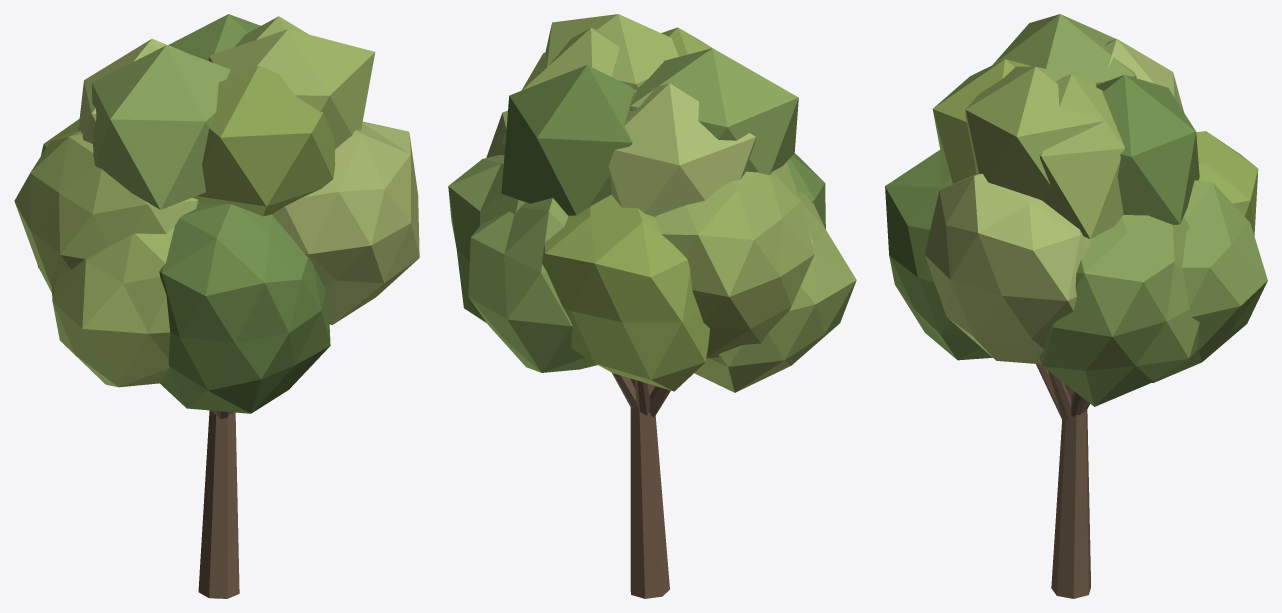
Rendered from ENV_Monza_Oak_02.glb.
The picture shows the model from 3 angles, left to right: view 1: azimuth 30°, elevation 25°; view 2: azimuth 150°, elevation 25°; view 3: azimuth 270°, elevation 25°; orthographic projection. The views are drawn at different scales.
Visible parts, largest first — view 1: ENV_Monza_Oak_02; view 2: ENV_Monza_Oak_02; view 3: ENV_Monza_Oak_02.
Part boxes in pixels (x1,y1,x2,y2): ENV_Monza_Oak_02: (14,14,419,598); ENV_Monza_Oak_02: (448,14,856,598); ENV_Monza_Oak_02: (885,14,1267,598).
Bounding box in the file's own units: 8.95 × 13.58 × 8.59.
